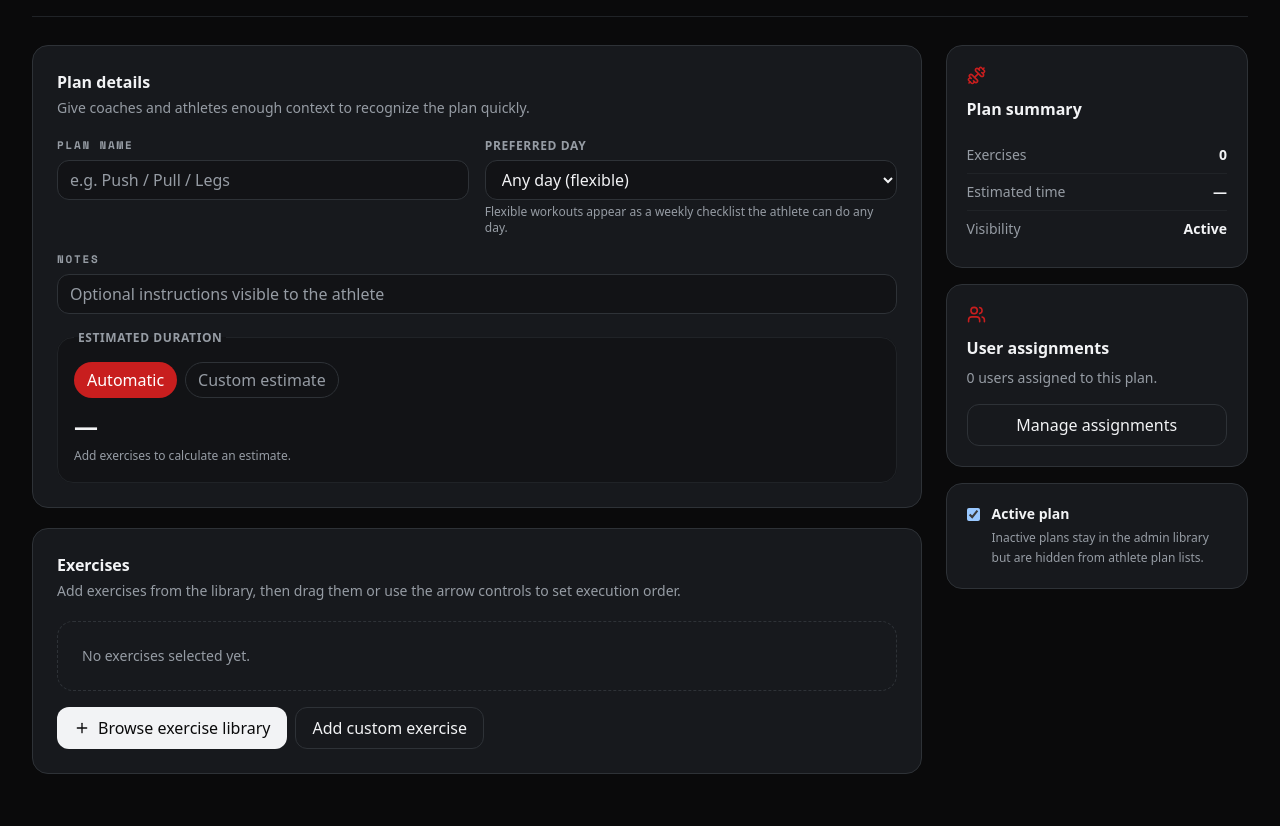
Test: WorkoutEditor log_type selector › swaps Reps for Duration when marked as timed, seeds a non-null target, and clears it back to reps
The image size is (1280, 826).
(page scrolled)
Click the button "Add custom exercise".
click(390, 728)  # box [295,707,484,749]
(page scrolled)
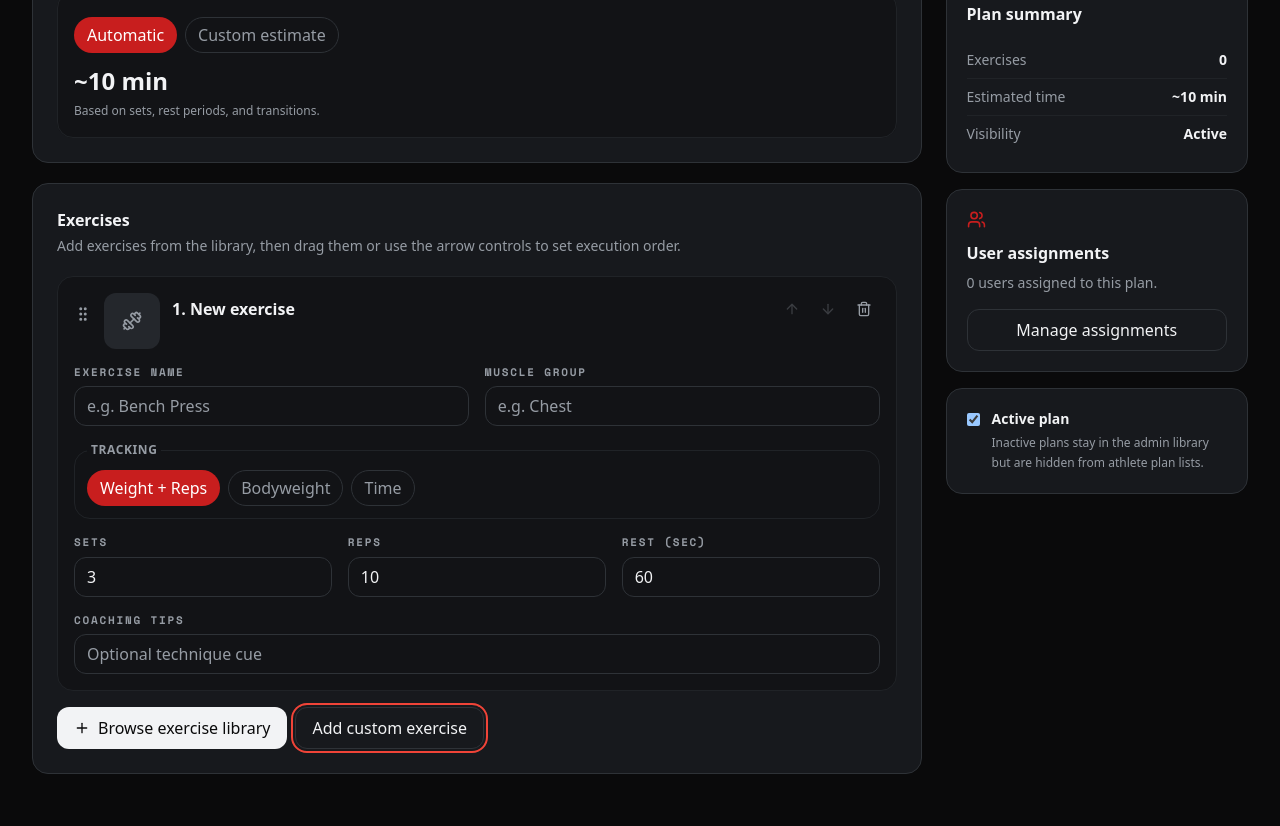
Expected: the field labelled "Duration (sec)" is not shown
Expected: the field labelled "Reps" is shown, [348,557,606,597]
Click the button "Time".
click(383, 488)  # box [352,470,414,506]
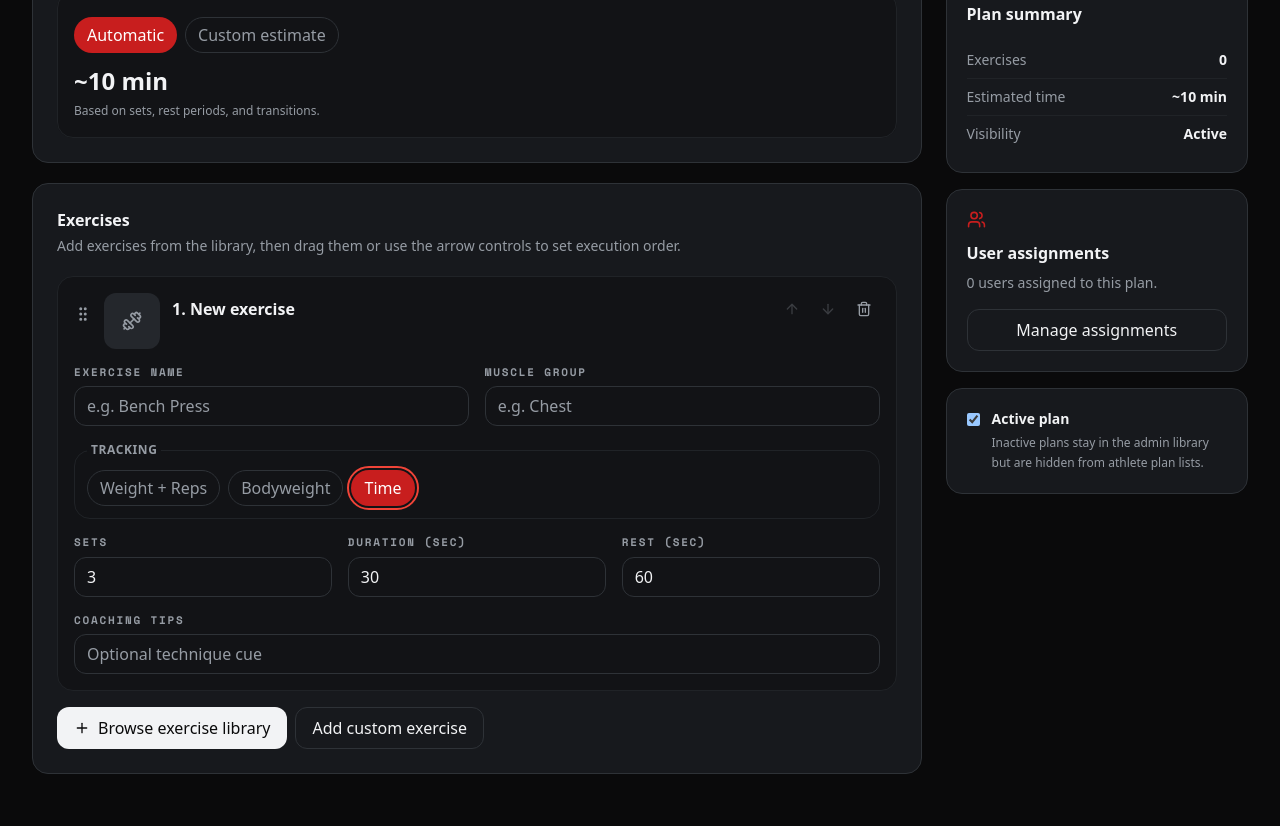
Expected: the number field labelled "Duration (sec)" holds "30", [348,557,606,597]
Click the button "Weight + Reps".
click(154, 488)  # box [87,470,220,506]
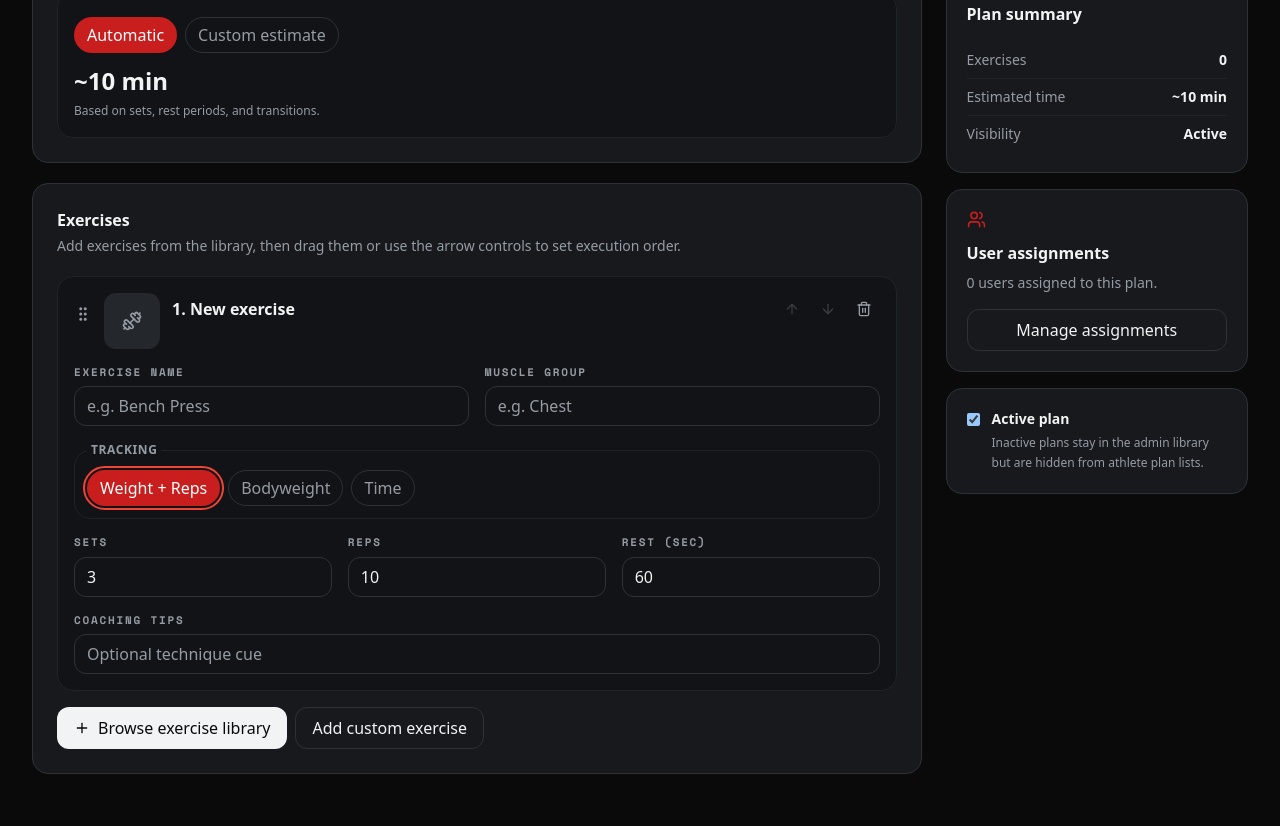
Expected: the field labelled "Reps" holds "10", [348,557,606,597]
Expected: the label labelled "Duration (sec)" is gone
